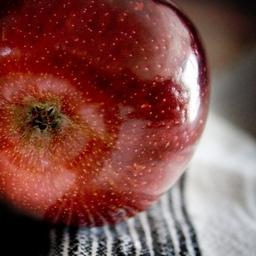apple: (1, 1, 210, 227)
